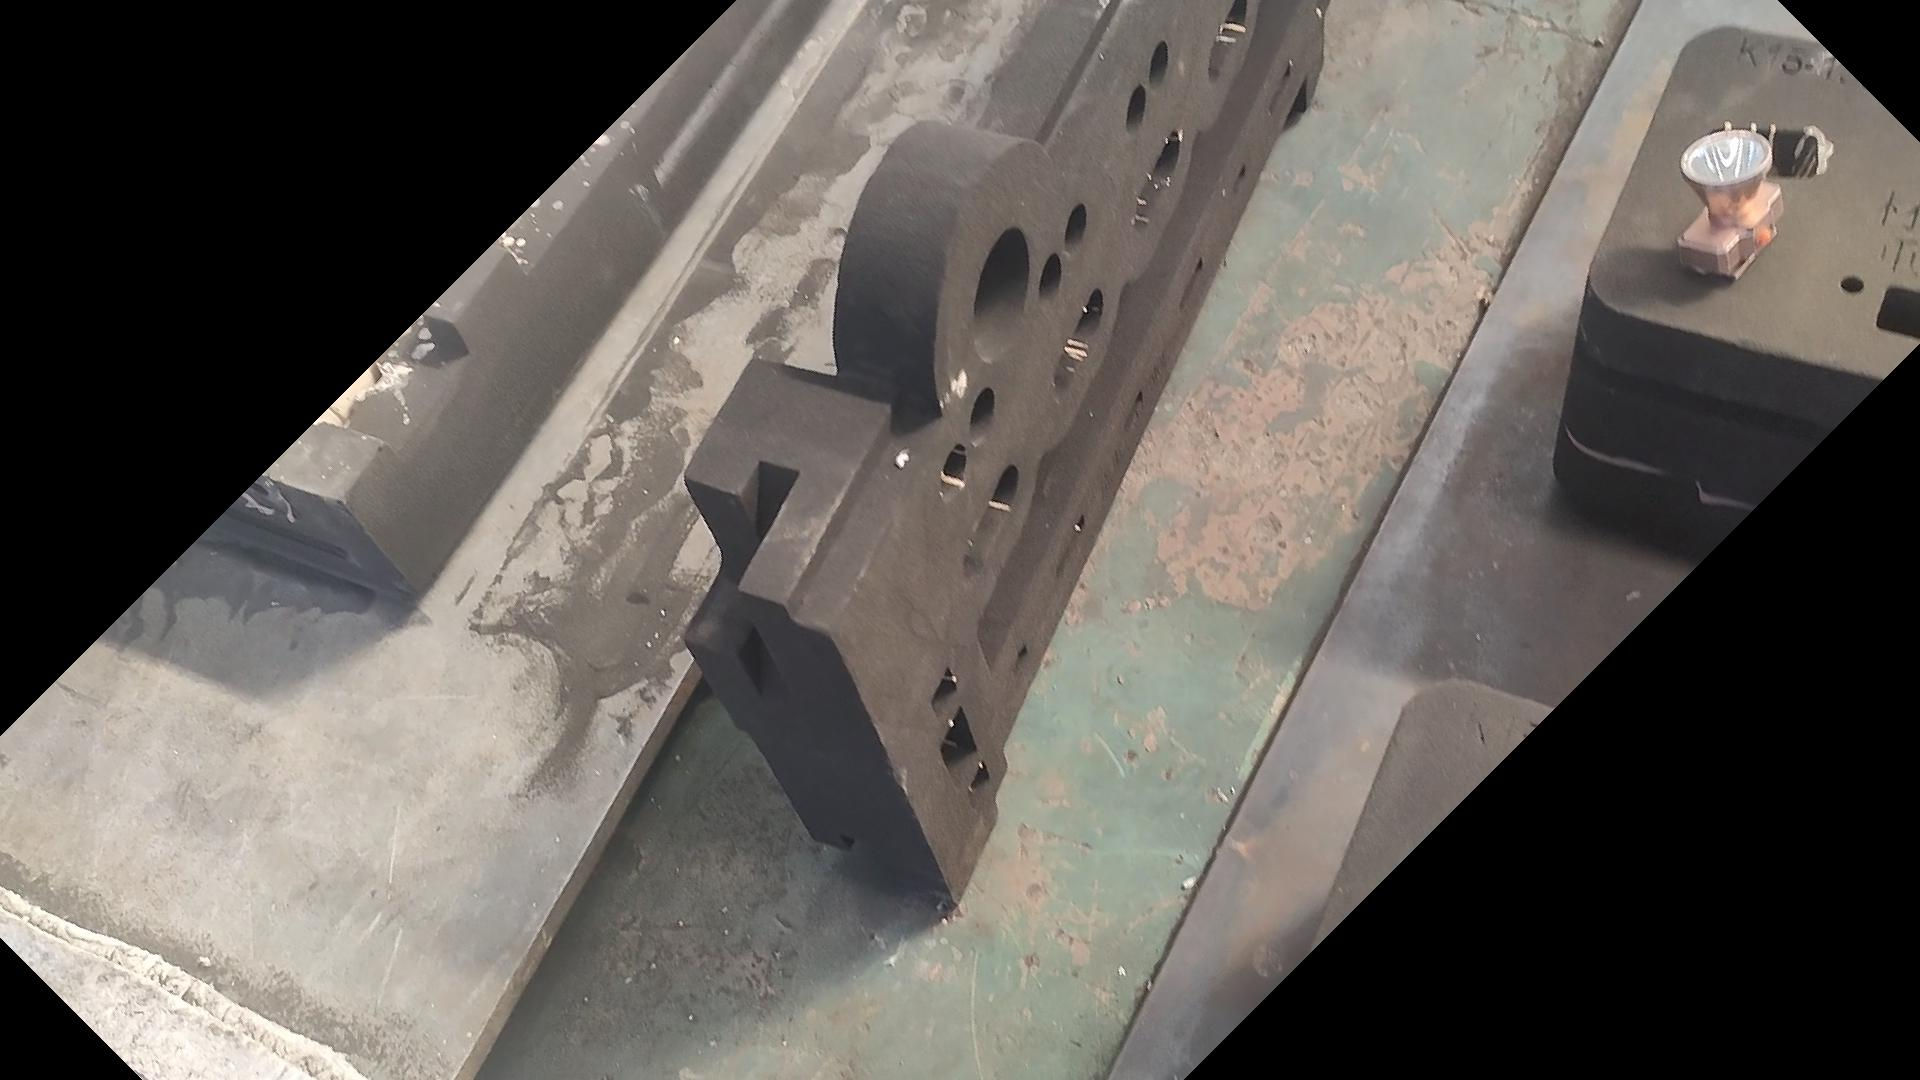pouring hole: (973, 225, 1030, 360)
